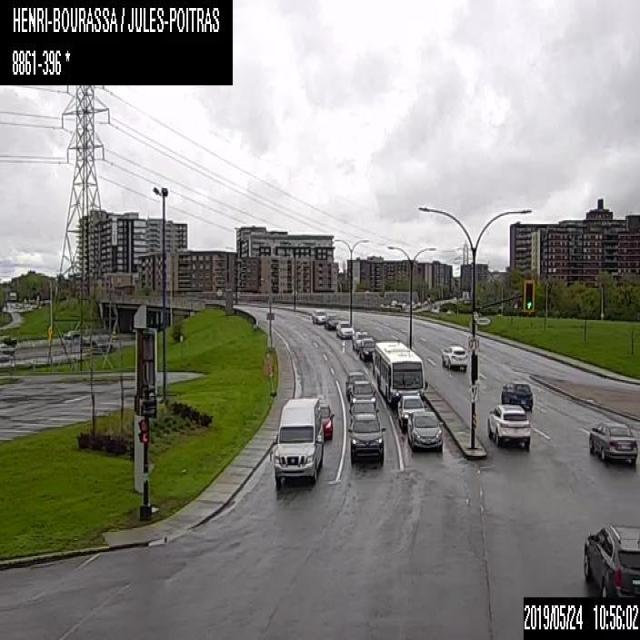bus: (372, 339, 428, 406)
vehicle: (270, 394, 322, 488), (584, 521, 639, 596), (588, 419, 638, 461), (486, 403, 530, 448), (347, 412, 385, 464), (406, 410, 443, 451), (397, 393, 426, 428), (500, 381, 532, 408), (350, 379, 376, 407), (440, 342, 466, 369), (348, 399, 378, 420), (345, 370, 365, 398), (319, 402, 334, 438), (358, 336, 375, 361), (334, 319, 354, 337), (351, 328, 367, 350), (323, 312, 339, 328), (310, 308, 326, 324)
